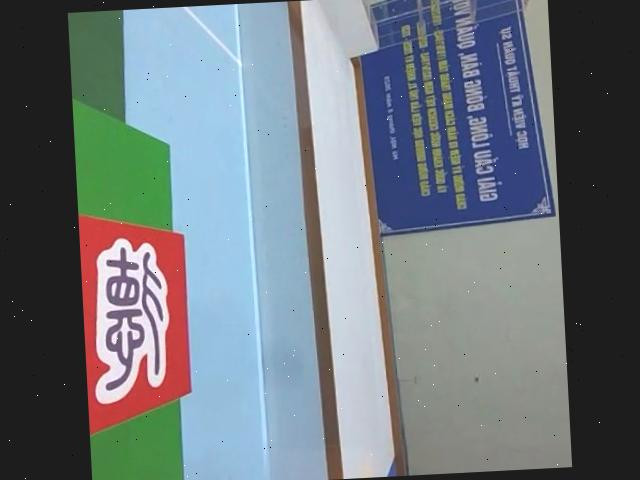R2 Fake: (78, 199, 198, 454)
